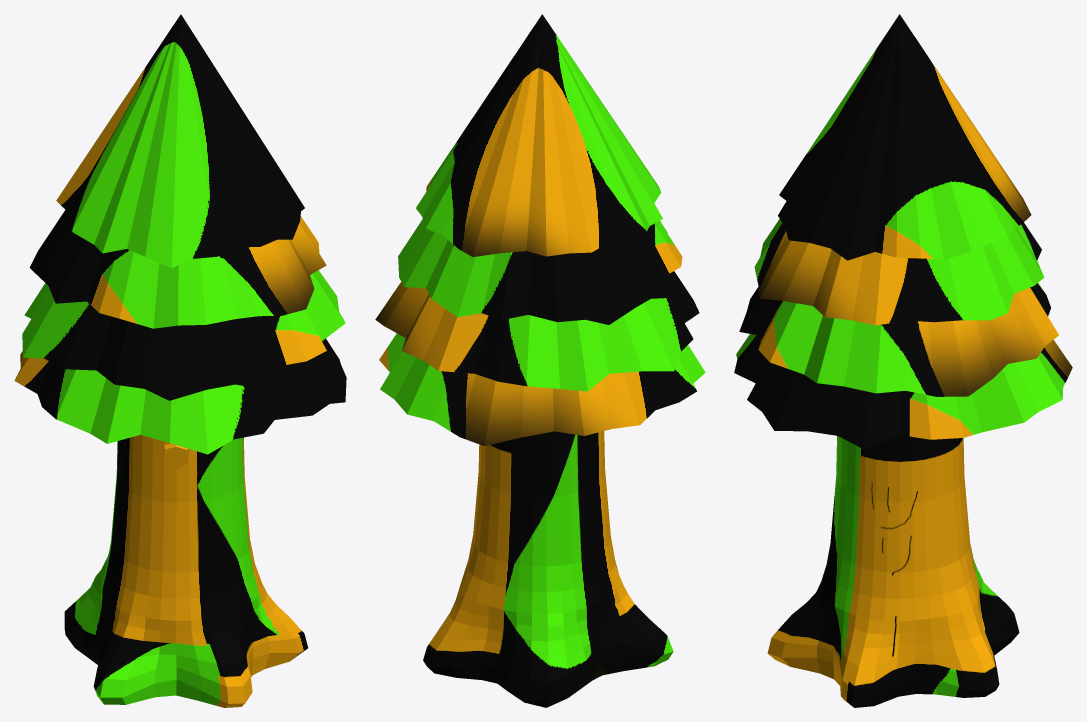
File: tree.obj
The picture shows the model from 3 angles, left to right: view 1: azimuth 30°, elevation 25°; view 2: azimuth 150°, elevation 25°; view 3: azimuth 270°, elevation 25°; orthographic projection.
Parts seen in each view (by area): view 1: 円柱_円柱.002; view 2: 円柱_円柱.002; view 3: 円柱_円柱.002.
Part boxes in pixels (x1,y1,x2,y2): 円柱_円柱.002: (14,14,346,707); 円柱_円柱.002: (375,14,705,707); 円柱_円柱.002: (734,14,1072,707).
Bounding box in the file's own units: 4.24 × 9.03 × 4.29.
1 material, 1 textured.
